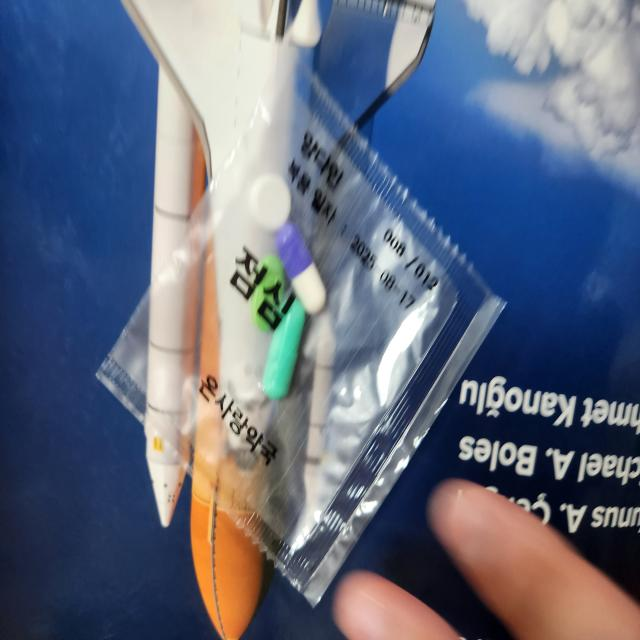러키펜정: (247, 173, 293, 236)
씨엠지세파클러캡슐: (274, 222, 329, 318)
에르도캡슐: (261, 303, 310, 403)
휴티렌정: (254, 255, 285, 333)
